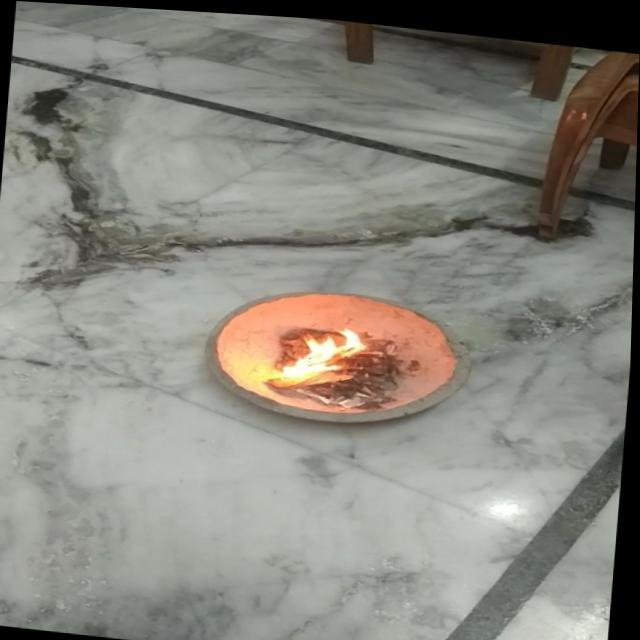fire: (278, 318, 381, 384)
